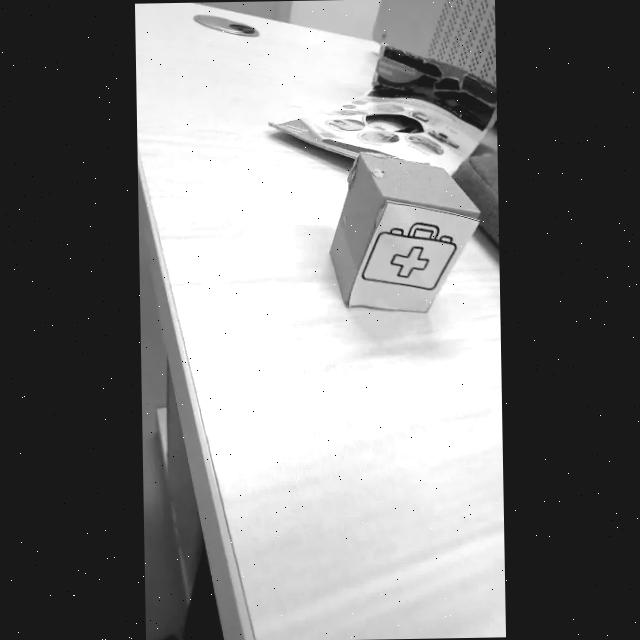Medkit: (361, 222, 456, 290)
